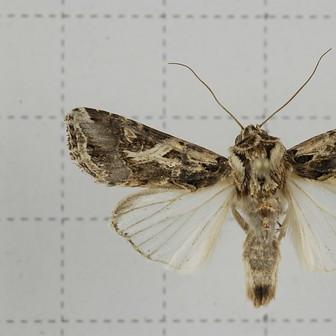Spodoptera litura: (64, 48, 336, 307)
